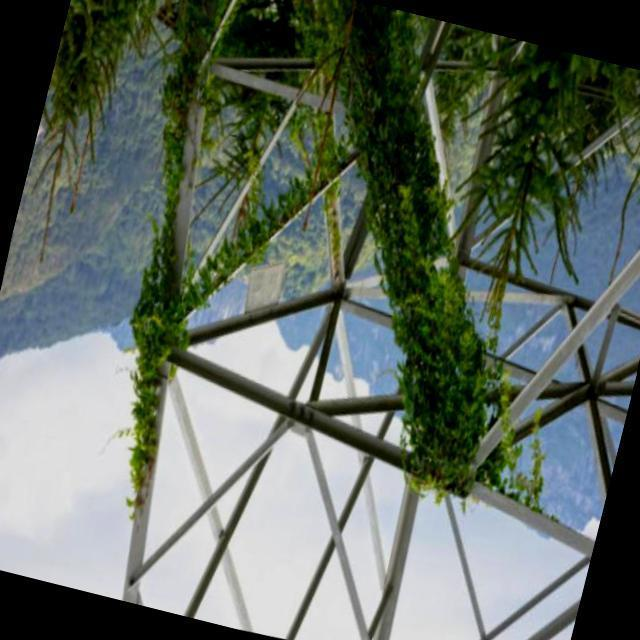critical vegetation: (48, 0, 640, 622)
